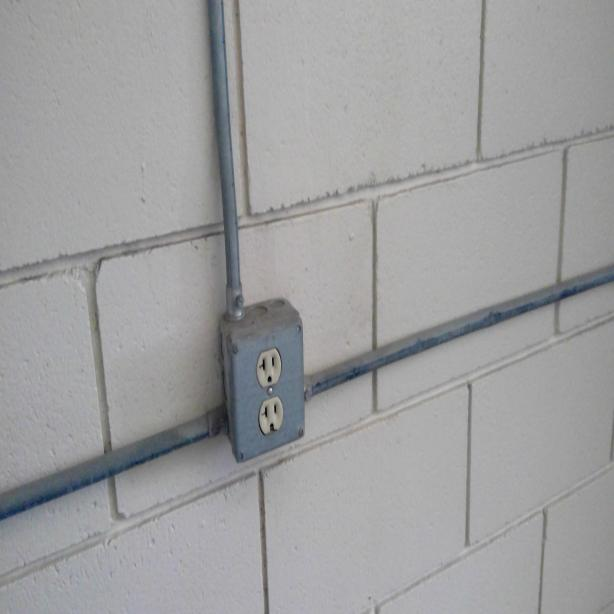typeb: (259, 349, 282, 387), (258, 401, 282, 434)
